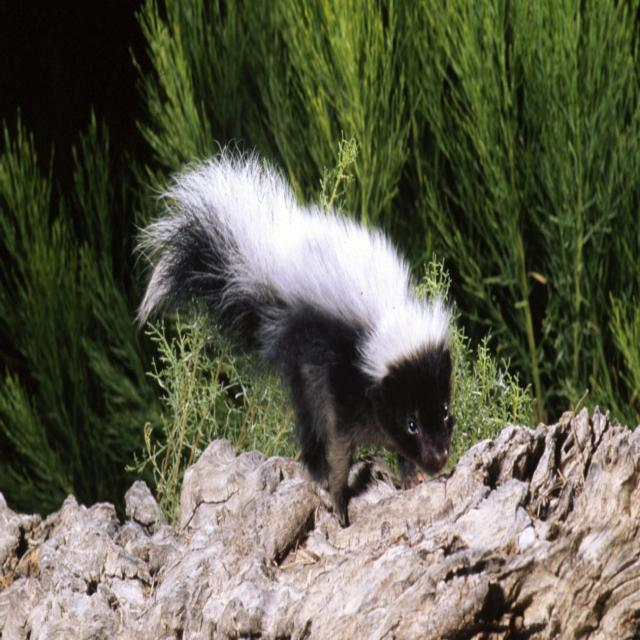Skunk: (139, 142, 454, 499)
